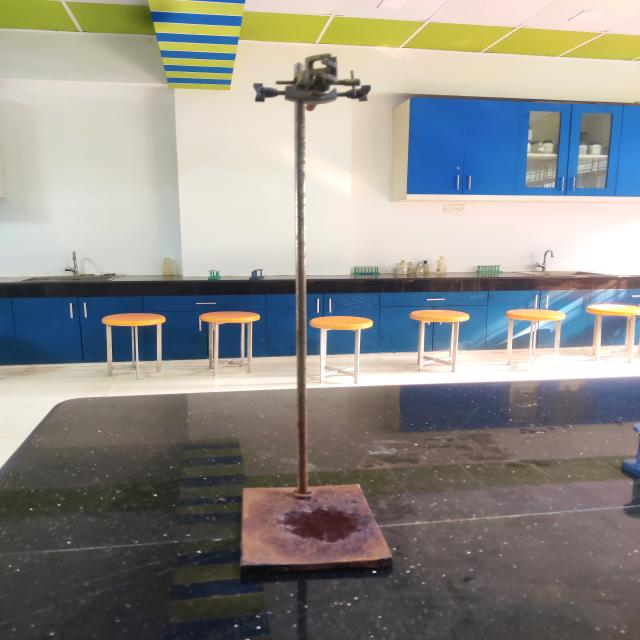Burette_Stands: (198, 40, 429, 603)
